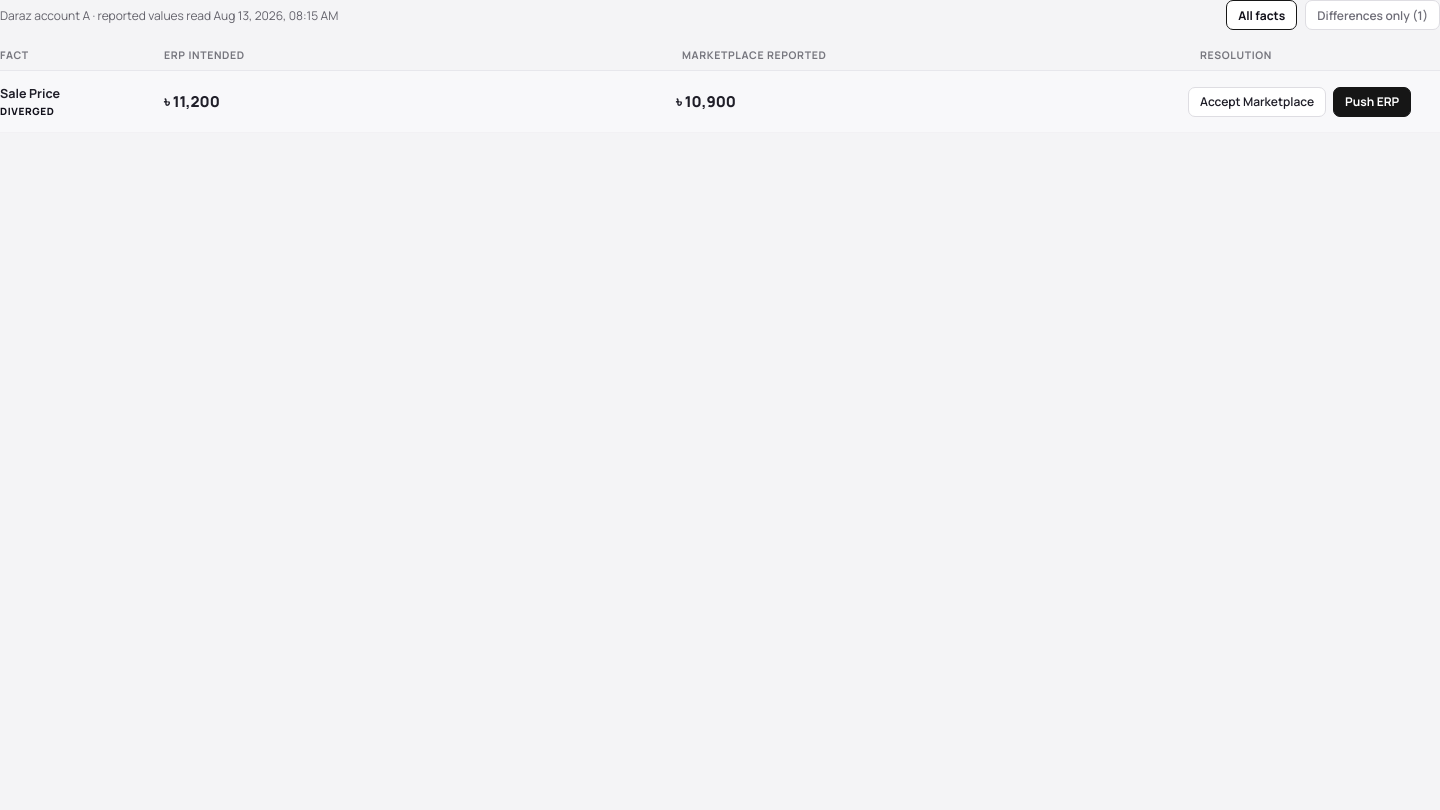
Test case: Frame 08 — Resolution dialogs › keeps the dialog open and states the real reason when acceptance fails
Click the button with test id "comparison-accept-sale_price": (1257, 102) top-left (1188, 86), bottom-right (1326, 116)
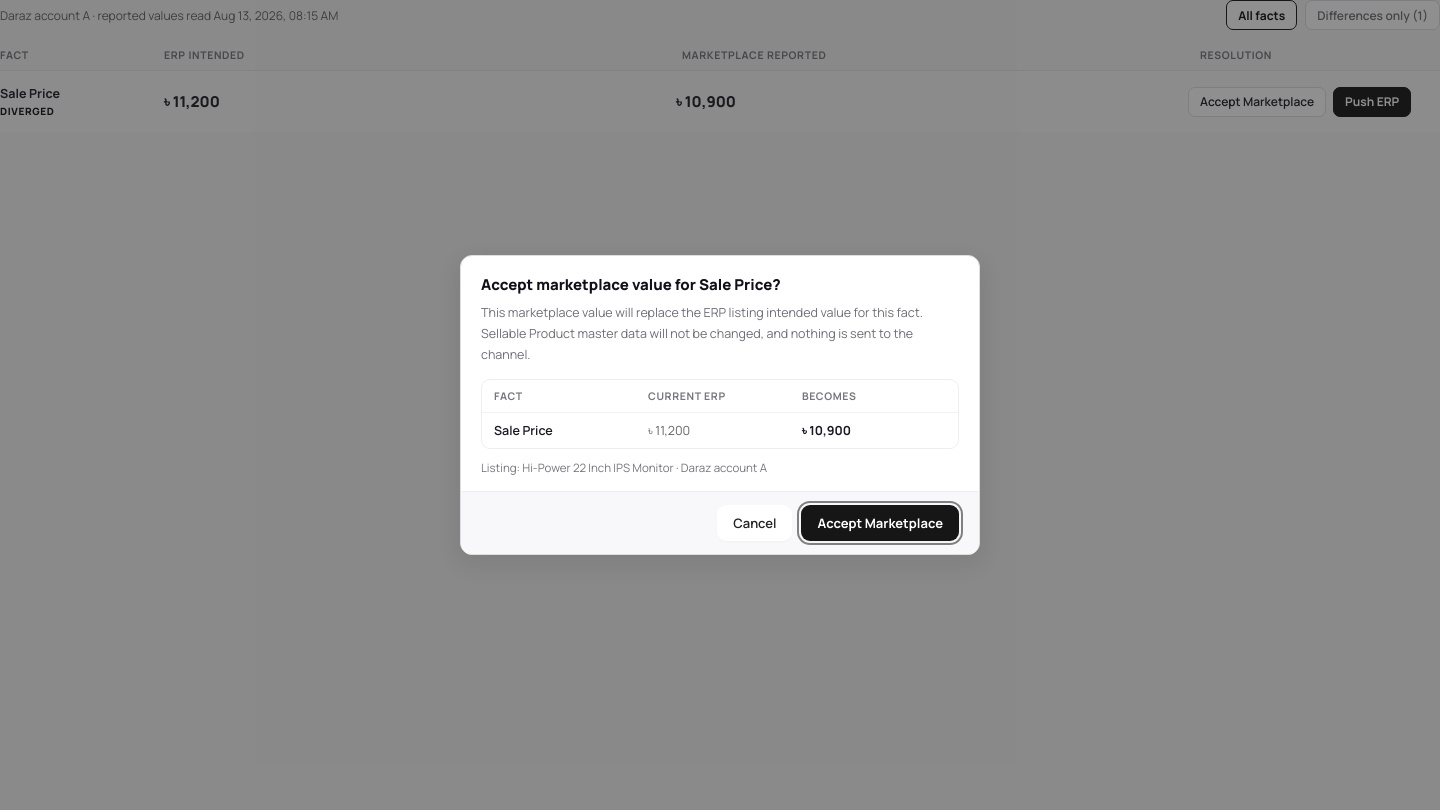
Click the button "Accept Marketplace": (880, 523) top-left (802, 505), bottom-right (959, 541)
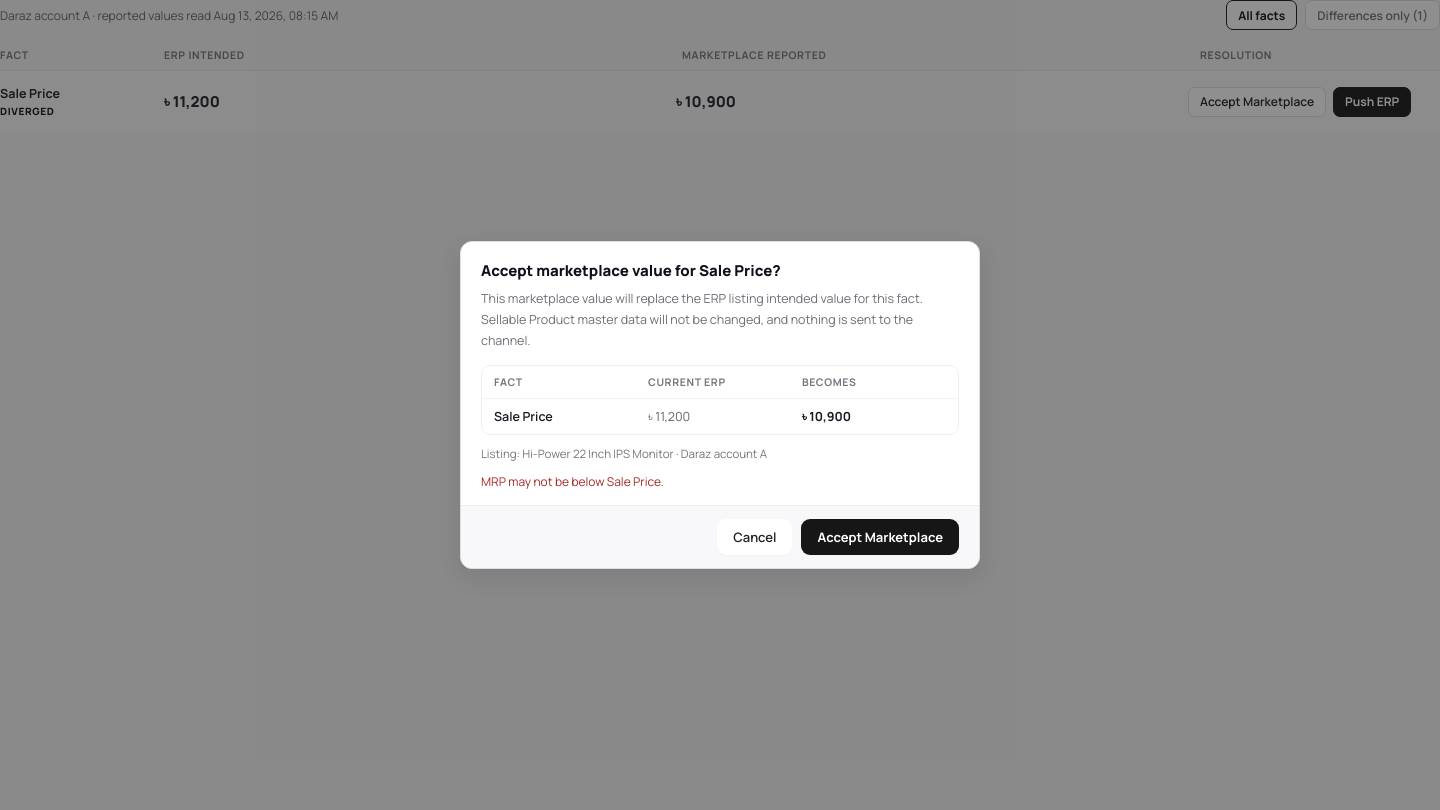
Result: the dialog with test id "accept-marketplace-dialog" is shown at top-left (460, 241), bottom-right (980, 568)
Result: the text with test id "dialog-error" reads "MRP may not be below Sale Price." at top-left (481, 473), bottom-right (664, 490)
